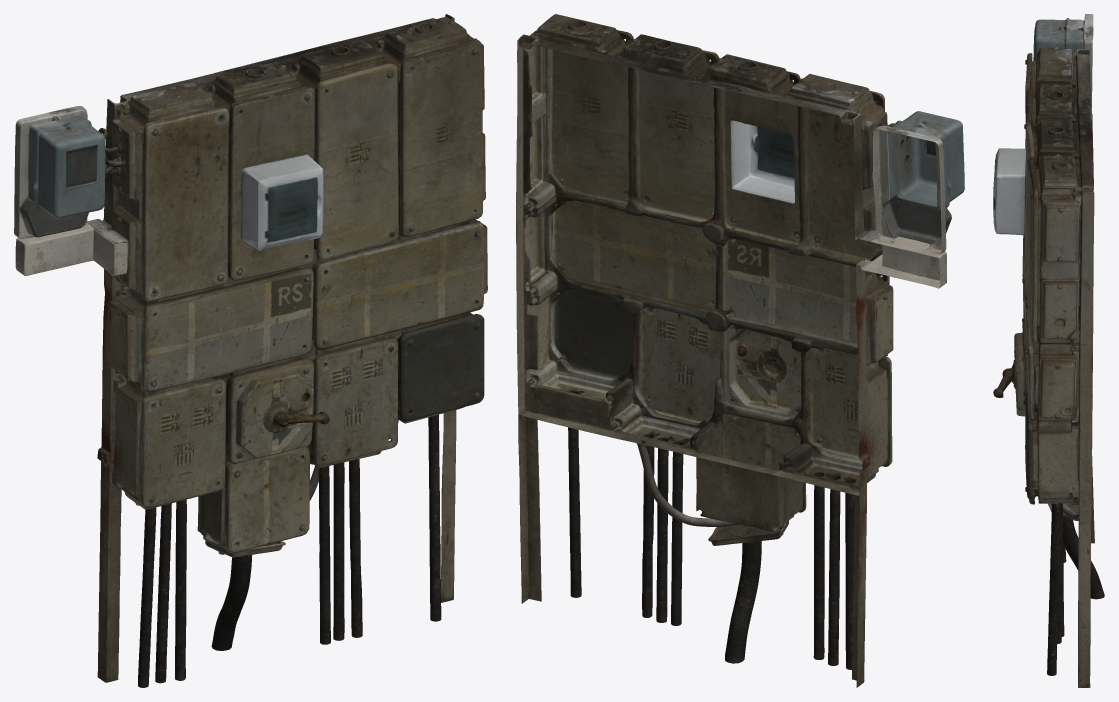
The model's file is Electrical_Boxes_vgyiedcaw_High.gltf.
3 views of the same model, side by side, from view 1: azimuth 30°, elevation 25°; view 2: azimuth 150°, elevation 25°; view 3: azimuth 270°, elevation 25° (orthographic). The views are drawn at different scales.
Parts seen in each view (by area): view 1: vgyiedcaw_LOD0_TIER1_000; view 2: vgyiedcaw_LOD0_TIER1_000; view 3: vgyiedcaw_LOD0_TIER1_000.
Part boxes in pixels (box(x1,y1,x2,y2)): vgyiedcaw_LOD0_TIER1_000: box(14, 14, 487, 687); vgyiedcaw_LOD0_TIER1_000: box(516, 14, 964, 687); vgyiedcaw_LOD0_TIER1_000: box(993, 14, 1104, 687).
Bounding box in the file's own units: 1.29 × 1.63 × 0.3252.
Materials: 1 (1 with a texture image).
